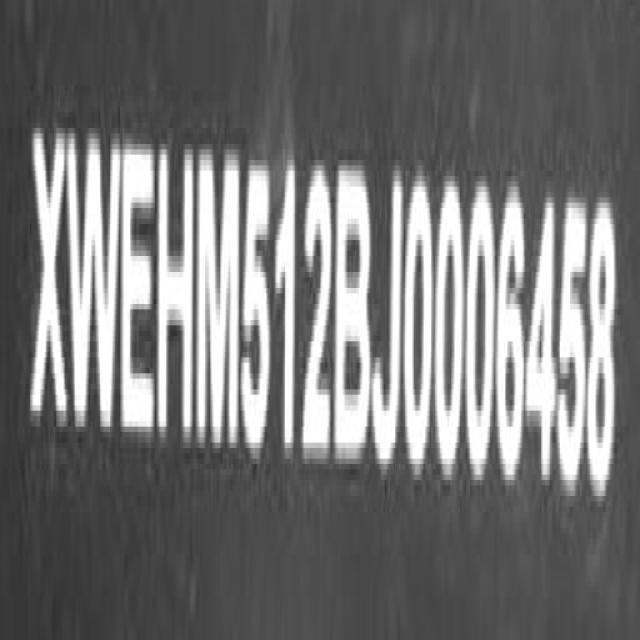0: (464, 177, 498, 488), (434, 168, 466, 482), (405, 168, 436, 480)
1: (274, 148, 300, 472)
2: (303, 153, 337, 473)
4: (527, 187, 558, 493)
5: (241, 141, 276, 464), (556, 196, 590, 494)
6: (498, 182, 530, 492)
8: (590, 193, 622, 499)
B: (336, 157, 372, 478)
E: (121, 132, 159, 450)
H: (156, 133, 196, 455)
J: (372, 154, 402, 472)
M: (195, 138, 242, 458)
W: (68, 124, 123, 449)
X: (32, 120, 69, 445)
